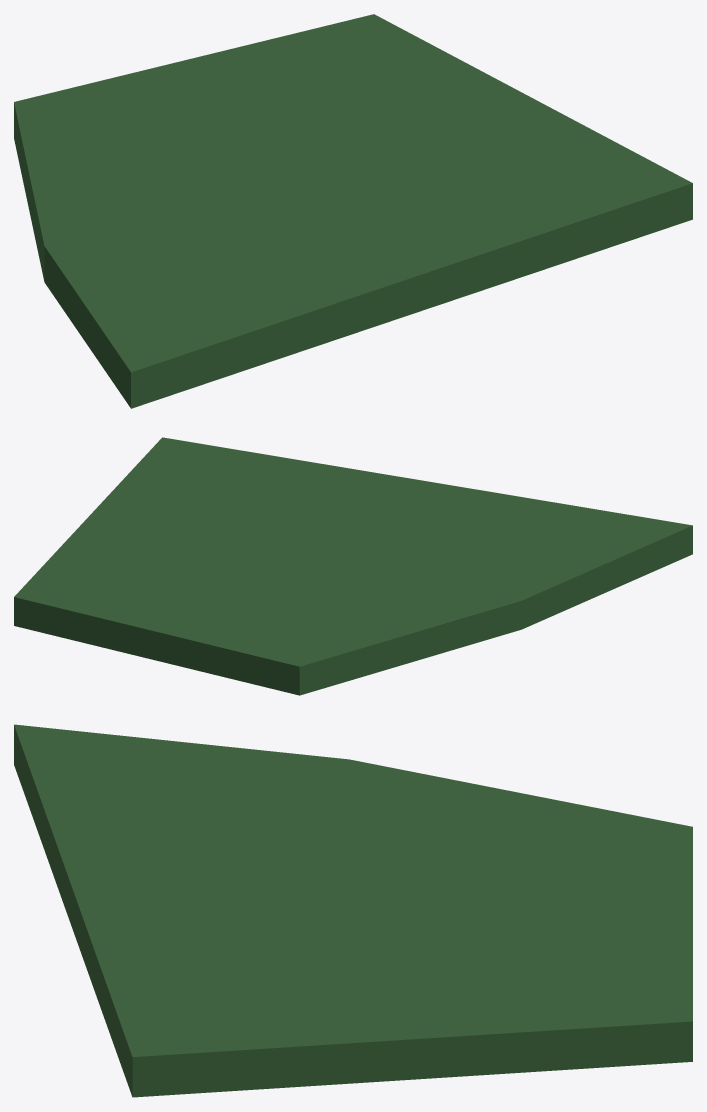
The model's file is x_proval_00_181_1_rmstrd.fbx.
3 renders of one model, top to bottom at view 1: azimuth 30°, elevation 25°; view 2: azimuth 150°, elevation 25°; view 3: azimuth 270°, elevation 25°, orthographic. The views are drawn at different scales.
Visible parts, largest first — view 1: x_proval_00_181_1_rmstrd1; view 2: x_proval_00_181_1_rmstrd1; view 3: x_proval_00_181_1_rmstrd1.
Boxes of the visible parts, x1,y1,x2,y2 form: x_proval_00_181_1_rmstrd1: [14, 14, 692, 408]; x_proval_00_181_1_rmstrd1: [14, 437, 692, 695]; x_proval_00_181_1_rmstrd1: [14, 724, 692, 1097].
Bounding box in the file's own units: 3.54 × 0.2 × 3.05.
